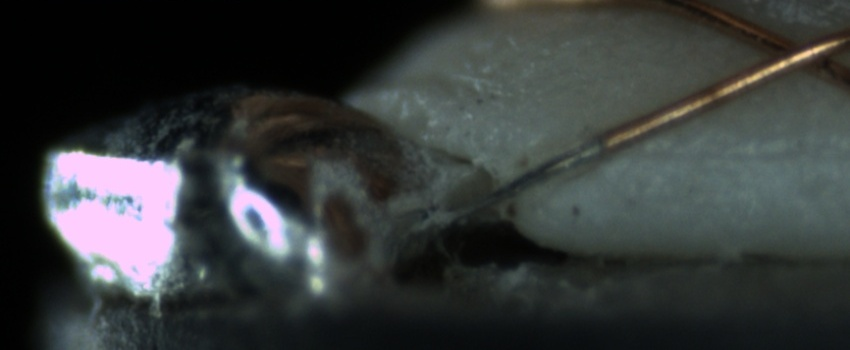CL: (741, 23, 845, 87)
DL: (613, 122, 850, 186)
TS: (413, 137, 605, 237)
TTCW: (456, 113, 659, 223)
